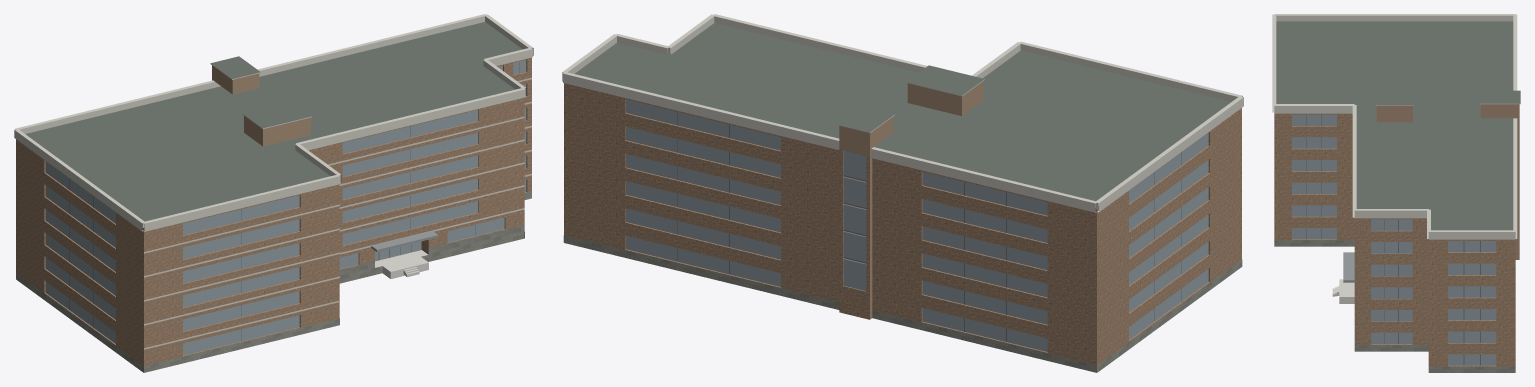
3 renders of one model, left to right at view 1: azimuth 30°, elevation 25°; view 2: azimuth 150°, elevation 25°; view 3: azimuth 270°, elevation 25°, orthographic. The views are drawn at different scales.
Parts seen in each view (by area): view 1: b943__wall, b943__roof, b943__glass, b943__trim, b943__base, b943__wall2, b943__entranceStair, b943__canopy; view 2: b943__wall, b943__roof, b943__glass, b943__trim, b943__base, b943__wall2, b943__frame; view 3: b943__roof, b943__wall, b943__glass, b943__trim, b943__wall2, b943__base, b943__frame, b943__entranceStair, b943__canopy.
Part boxes in pixels (x1,y1,x2,y2): b943__wall: (16, 57, 531, 372); b943__roof: (25, 22, 523, 283); b943__glass: (45, 60, 526, 355); b943__trim: (14, 14, 533, 349); b943__base: (16, 192, 531, 372); b943__wall2: (212, 65, 310, 146); b943__entranceStair: (375, 250, 428, 278); b943__canopy: (371, 231, 438, 252); b943__wall: (564, 83, 1241, 372); b943__roof: (575, 23, 1230, 209); b943__glass: (626, 99, 1208, 351); b943__trim: (562, 14, 1243, 212); b943__base: (563, 235, 1242, 372); b943__wall2: (839, 81, 983, 319); b943__frame: (677, 112, 1181, 341); b943__roof: (1276, 21, 1520, 322); b943__wall: (1274, 113, 1515, 366); b943__glass: (1292, 114, 1496, 365); b943__trim: (1272, 14, 1520, 336); b943__wall2: (1376, 104, 1519, 259); b943__base: (1274, 240, 1515, 372); b943__frame: (1306, 115, 1480, 365); b943__entranceStair: (1332, 279, 1354, 303); b943__canopy: (1343, 252, 1354, 282).
Bounding box in the file's own units: 74.23 × 24.91 × 35.74.
Materials: 10 (2 with a texture image).
